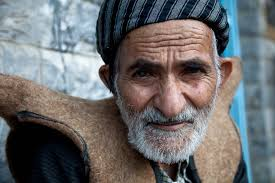middle_eastern_male: (112, 21, 225, 151)
